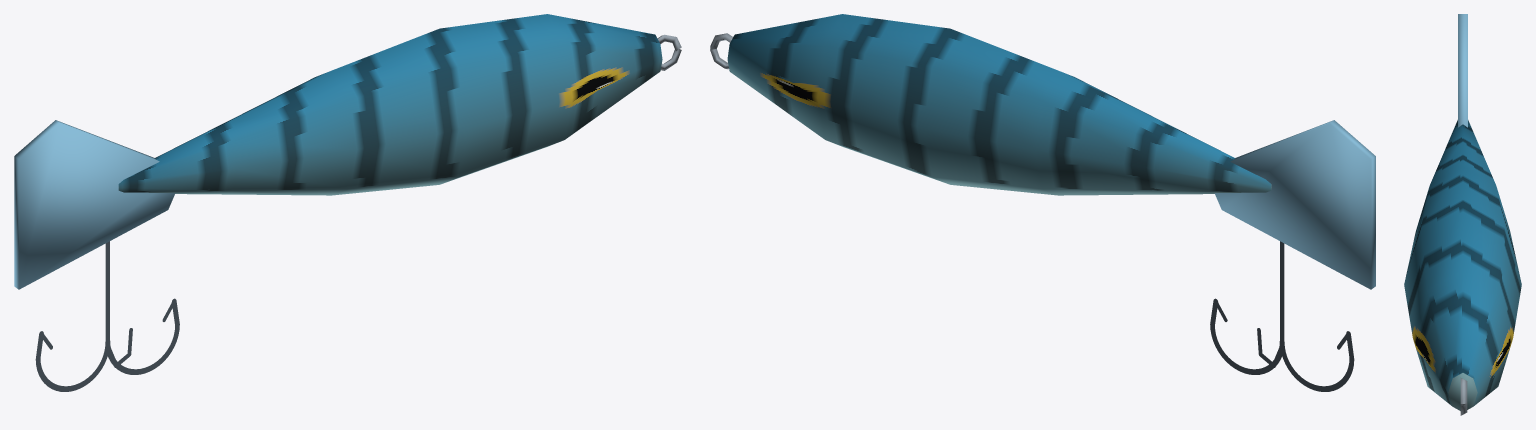
Rendered from shad.glb.
3 renders of one model, left to right at view 1: azimuth 30°, elevation 25°; view 2: azimuth 150°, elevation 25°; view 3: azimuth 270°, elevation 25°, orthographic. The views are drawn at different scales.
Visible parts, largest first — view 1: shad_body_MESH, Soft_paddle_tail_MESH, Treble_hook_ALPHA.011; view 2: shad_body_MESH, Soft_paddle_tail_MESH, Treble_hook_ALPHA.011; view 3: shad_body_MESH, Soft_paddle_tail_MESH, Attachment_eye_MESH.019.
Part boxes in pixels (<box>): shad_body_MESH: <box>118,14,662,195</box>; Soft_paddle_tail_MESH: <box>14,120,175,289</box>; Treble_hook_ALPHA.011: <box>35,241,179,391</box>; shad_body_MESH: <box>727,14,1271,195</box>; Soft_paddle_tail_MESH: <box>1214,120,1375,289</box>; Treble_hook_ALPHA.011: <box>1210,241,1354,391</box>; shad_body_MESH: <box>1404,120,1521,410</box>; Soft_paddle_tail_MESH: <box>1458,14,1467,127</box>; Attachment_eye_MESH.019: <box>1460,378,1467,415</box>.
Size of the model in its own units: 0.0801 by 0.033 by 0.012.
4 materials, 2 textured.
